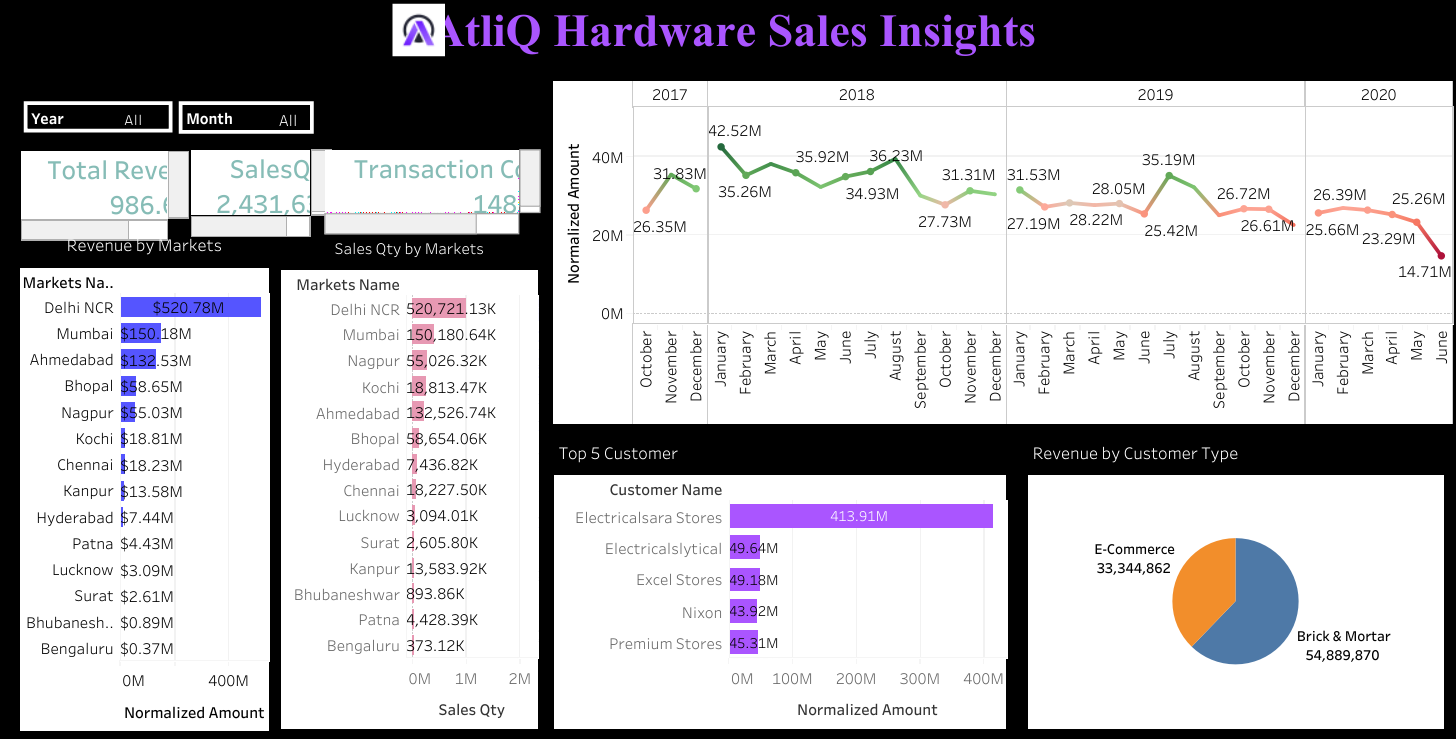

The page's visual inventory and layout, read from the dashboard file:
{"tool":"tableau","page":{"name":"Dashboard 1","canvas":[1000,1000],"units":"permille","ordinal":0},"visuals":[{"type":"image","param":"Image/atliq logo.png","box":[274,12.6,32.6,55.2]},{"type":"worksheet","title":"Revenue by Year","mark":"Automatic","rows":["Calculation_735775599199322112"],"cols":["cy-date","cy-date"],"box":[379,109.8,619.2,464.5]},{"type":"filter","title":"Revenue by Year","param":"[federated.12w4wcq1mp1xi51cexiz00513ge6].[mn:cy-date:ok]","box":[141.9,135.5,92.8,43.9]},{"type":"filter","title":"Revenue by Year","param":"[federated.12w4wcq1mp1xi51cexiz00513ge6].[yr:cy-date:ok]","box":[16.6,136.6,101.4,42.8]},{"type":"worksheet","title":"Revenue","mark":"Automatic","box":[14.7,204.8,115.5,121.8]},{"type":"worksheet","title":"Qty Sales","mark":"Automatic","box":[143.7,205.8,96.4,117.9]},{"type":"worksheet","title":"Trans.count","mark":"Automatic","box":[247.5,207,104.4,89.1]},{"type":"worksheet","title":"Revenue by Markets","mark":"Automatic","rows":["markets_name"],"cols":["Calculation_735775599199322112"],"box":[14.1,321.2,346.4,666.2]},{"type":"worksheet","title":"Revenue by customer type","mark":"Pie","box":[704.6,585,285,398.9]},{"type":"worksheet","title":"Top 5 Customer","mark":"Automatic","rows":["customer_name"],"cols":["Calculation_735775599199322112"],"box":[380.2,597.1,289.3,388.2]}]}

Visuals, with their boxes on the dashboard's canvas, which has no fixed pixel size, in thousandths of its width and height (x1, y1, x2, y2). These are canvas units, not pixel positions in the 1456x739 screenshot, which may show the page scaled, cropped or inside an application window:
image: 274/13/307/68
"Revenue by Year" worksheet: 379/110/998/574
"Revenue by Year" filter: 142/136/235/179
"Revenue by Year" filter: 17/137/118/179
"Revenue" worksheet: 15/205/130/327
"Qty Sales" worksheet: 144/206/240/324
"Trans.count" worksheet: 248/207/352/296
"Revenue by Markets" worksheet: 14/321/360/987
"Revenue by customer type" worksheet (Pie marks): 705/585/990/984
"Top 5 Customer" worksheet: 380/597/670/985
